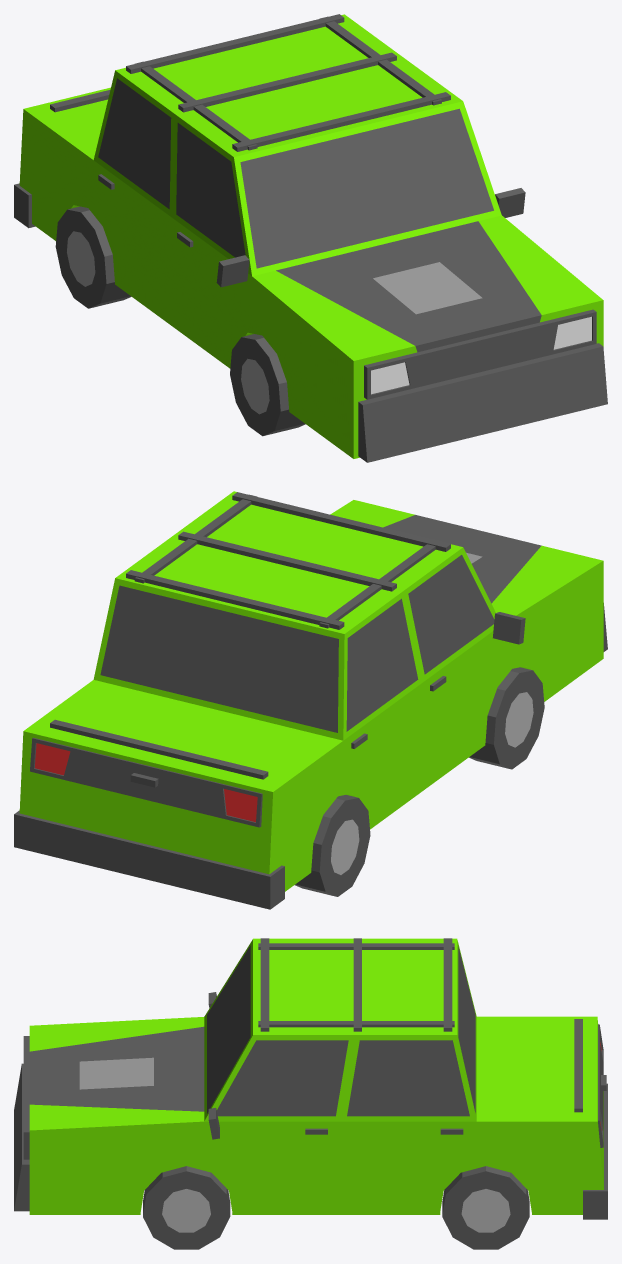
File: SM_Car_01_05.FBX
3 views of the same model, one above another, from view 1: azimuth 30°, elevation 25°; view 2: azimuth 150°, elevation 25°; view 3: azimuth 270°, elevation 25° (orthographic). The views are drawn at different scales.
Visible parts, largest first — view 1: SM_Car_01_05, SM_Wheel_RBack001, SM_Wheel_LFront001; view 2: SM_Car_01_05, SM_Wheel_LFront001, SM_Wheel_RBack001; view 3: SM_Car_01_05, SM_Wheel_LBack001, SM_Wheel_LFront002.
Boxes of the visible parts, x1,y1,x2,y2 form: SM_Car_01_05: (14, 14, 607, 462); SM_Wheel_RBack001: (55, 206, 131, 308); SM_Wheel_LFront001: (230, 334, 305, 436); SM_Car_01_05: (14, 491, 607, 909); SM_Wheel_LFront001: (469, 667, 544, 769); SM_Wheel_RBack001: (295, 795, 370, 896); SM_Car_01_05: (14, 938, 607, 1219); SM_Wheel_LBack001: (442, 1166, 529, 1249); SM_Wheel_LFront002: (143, 1166, 230, 1249).
Size of the model in its own units: 1.7 by 1.32 by 3.37.
Materials: 1 (1 with a texture image).
